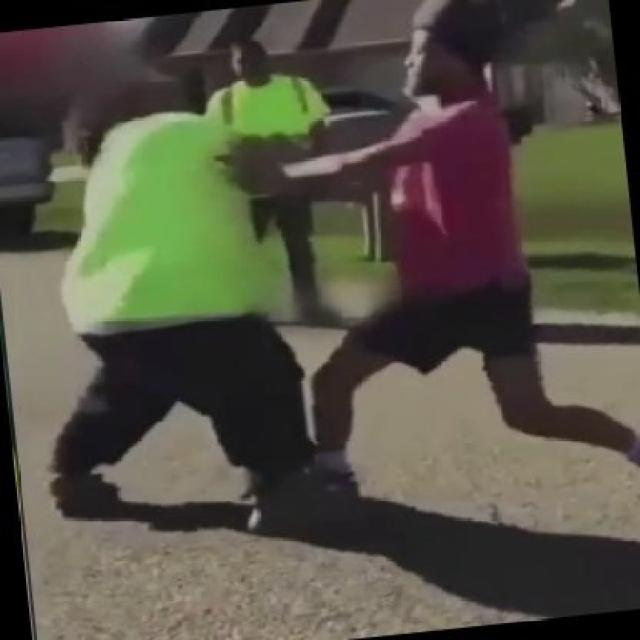fight: (37, 0, 637, 538)
